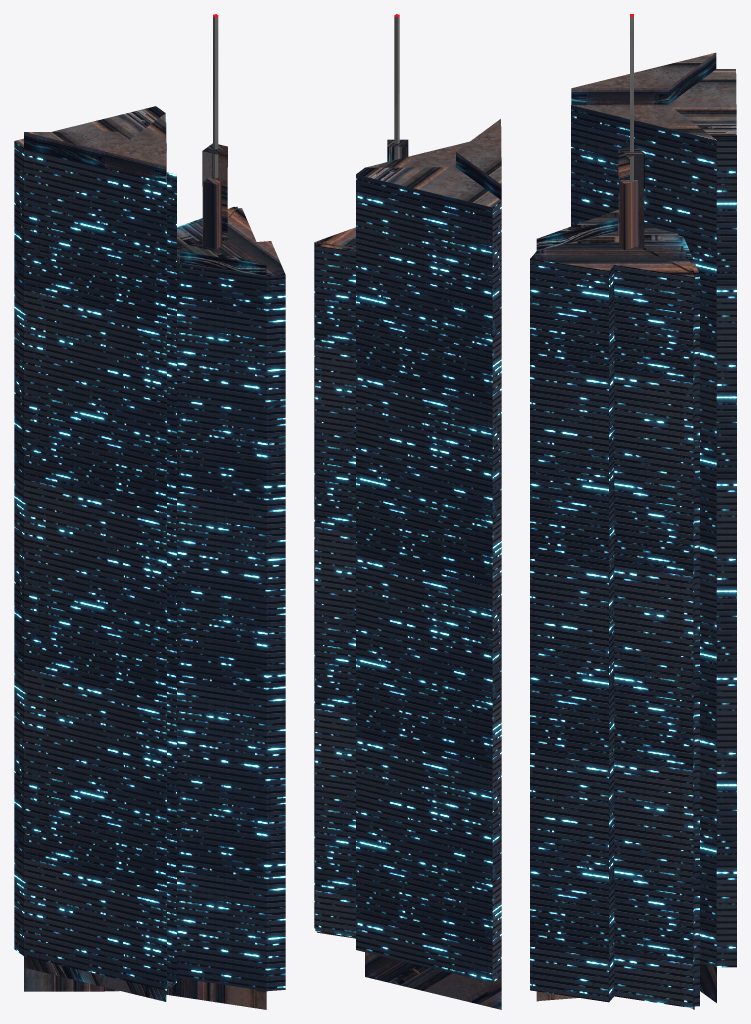
File: synth-skyscraper.glb
3 views of the same model, side by side, from view 1: azimuth 30°, elevation 25°; view 2: azimuth 150°, elevation 25°; view 3: azimuth 270°, elevation 25° (orthographic). The views are drawn at different scales.
Visible parts, largest first — view 1: building5_2.004; view 2: building5_2.004; view 3: building5_2.004.
Boxes of the visible parts, x1,y1,x2,y2 form: building5_2.004: (14,14,285,1009); building5_2.004: (314,14,501,1009); building5_2.004: (530,14,736,1009).
Size of the model in its own units: 122 by 547 by 103.
Materials: 3 (2 with a texture image).
